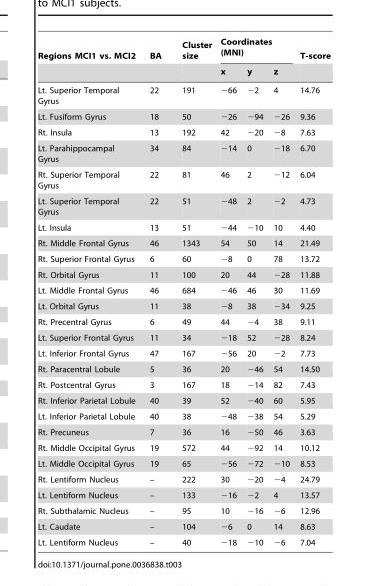table: (36, 37, 330, 546)
table column: (36, 37, 141, 546), (171, 37, 215, 546), (294, 37, 330, 546), (141, 37, 171, 546), (267, 37, 294, 546), (215, 37, 241, 546), (241, 37, 267, 546)
table column header: (36, 37, 330, 80)
table row: (36, 80, 330, 108), (36, 192, 330, 219), (36, 37, 330, 63), (36, 140, 330, 166), (36, 166, 330, 192), (36, 63, 330, 80), (36, 108, 330, 124), (36, 124, 330, 140), (36, 219, 330, 235), (36, 250, 330, 266), (36, 266, 330, 282), (36, 282, 330, 298), (36, 313, 330, 329), (36, 329, 330, 345), (36, 345, 330, 361), (36, 376, 330, 392), (36, 392, 330, 408), (36, 408, 330, 424), (36, 439, 330, 455), (36, 455, 330, 471), (36, 471, 330, 487), (36, 502, 330, 518), (36, 518, 330, 534), (36, 235, 330, 250), (36, 298, 330, 313), (36, 361, 330, 376), (36, 424, 330, 439), (36, 487, 330, 502), (36, 534, 330, 546)
table spanning cell: (36, 37, 141, 80), (215, 37, 294, 63), (171, 37, 215, 80), (294, 37, 330, 80), (141, 37, 171, 80)
